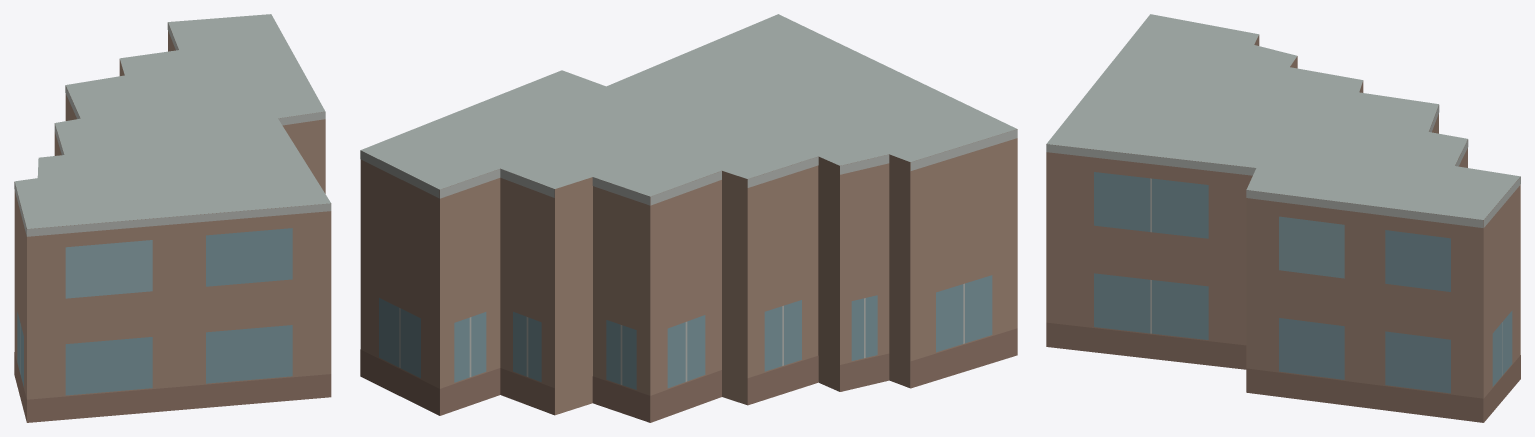
The model's file is survey-upis-32641118.glb.
3 renders of one model, left to right at view 1: azimuth 30°, elevation 25°; view 2: azimuth 150°, elevation 25°; view 3: azimuth 270°, elevation 25°, orthographic. The views are drawn at different scales.
Visible parts, largest first — view 1: survey-upis-32641118.tmp; view 2: survey-upis-32641118.tmp; view 3: survey-upis-32641118.tmp.
Part boxes in pixels (box(x1,y1,x2,y2)): survey-upis-32641118.tmp: box(14, 14, 331, 422); survey-upis-32641118.tmp: box(360, 14, 1017, 422); survey-upis-32641118.tmp: box(1046, 14, 1520, 422).
Size of the model in its own units: 13.3 by 6.1 by 12.94.
